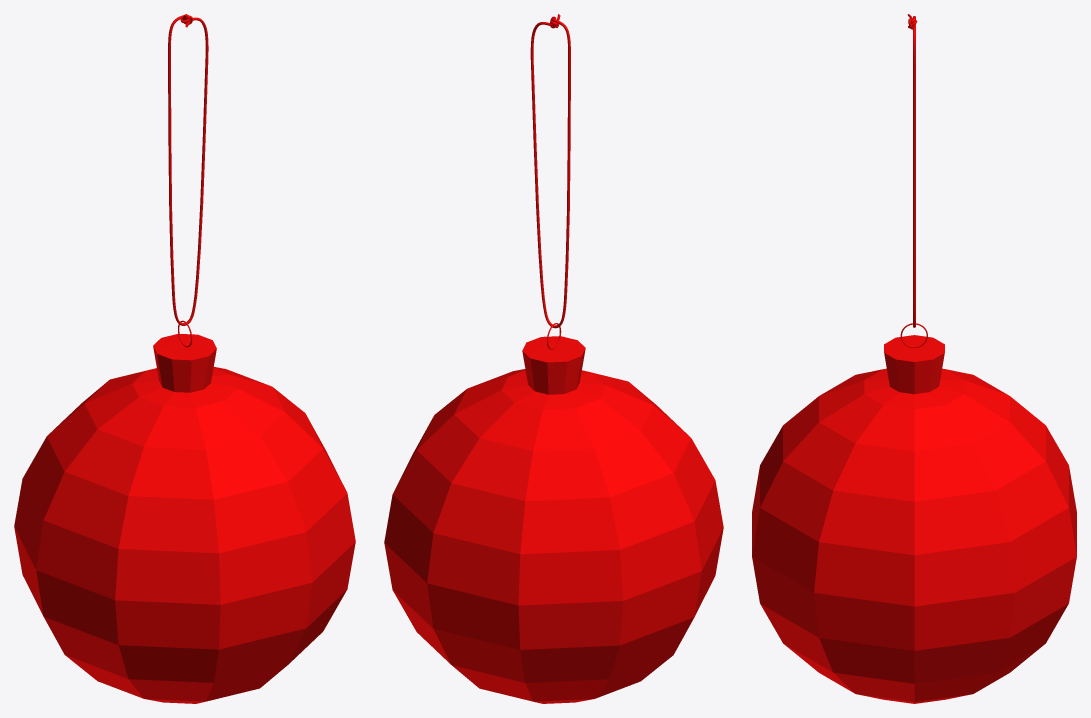
The model's file is Ball1.obj.
The picture shows the model from 3 angles, left to right: view 1: azimuth 30°, elevation 25°; view 2: azimuth 150°, elevation 25°; view 3: azimuth 270°, elevation 25°; orthographic projection.
Visible parts, largest first — view 1: Ball1; view 2: Ball1; view 3: Ball1.
Part boxes in pixels (<box>): Ball1: <box>14,14,355,703</box>; Ball1: <box>384,14,723,703</box>; Ball1: <box>752,14,1076,703</box>.
Size of the model in its own units: 2.89 by 6.29 by 2.75.
